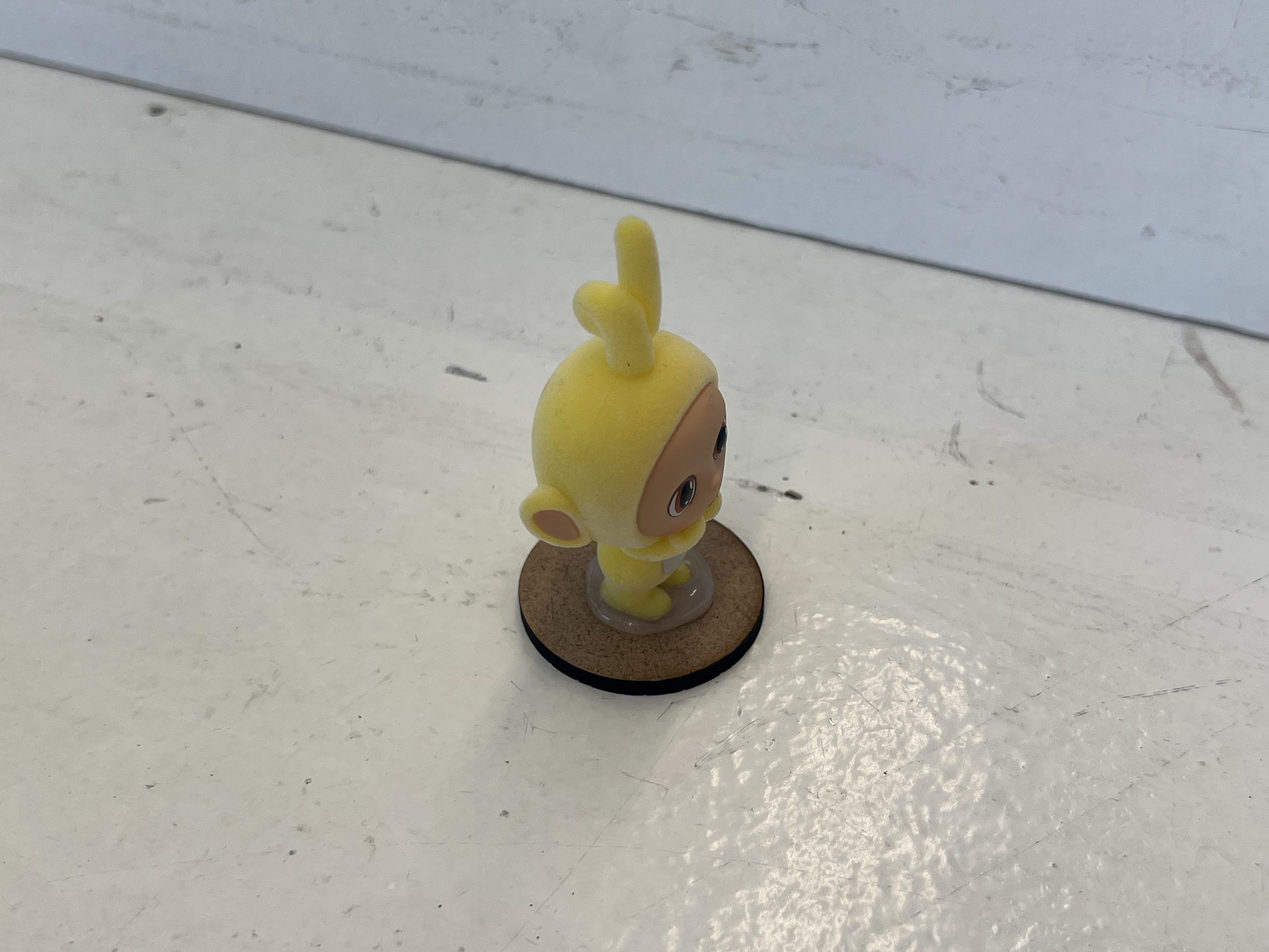teletubby: (520, 217, 727, 620)
